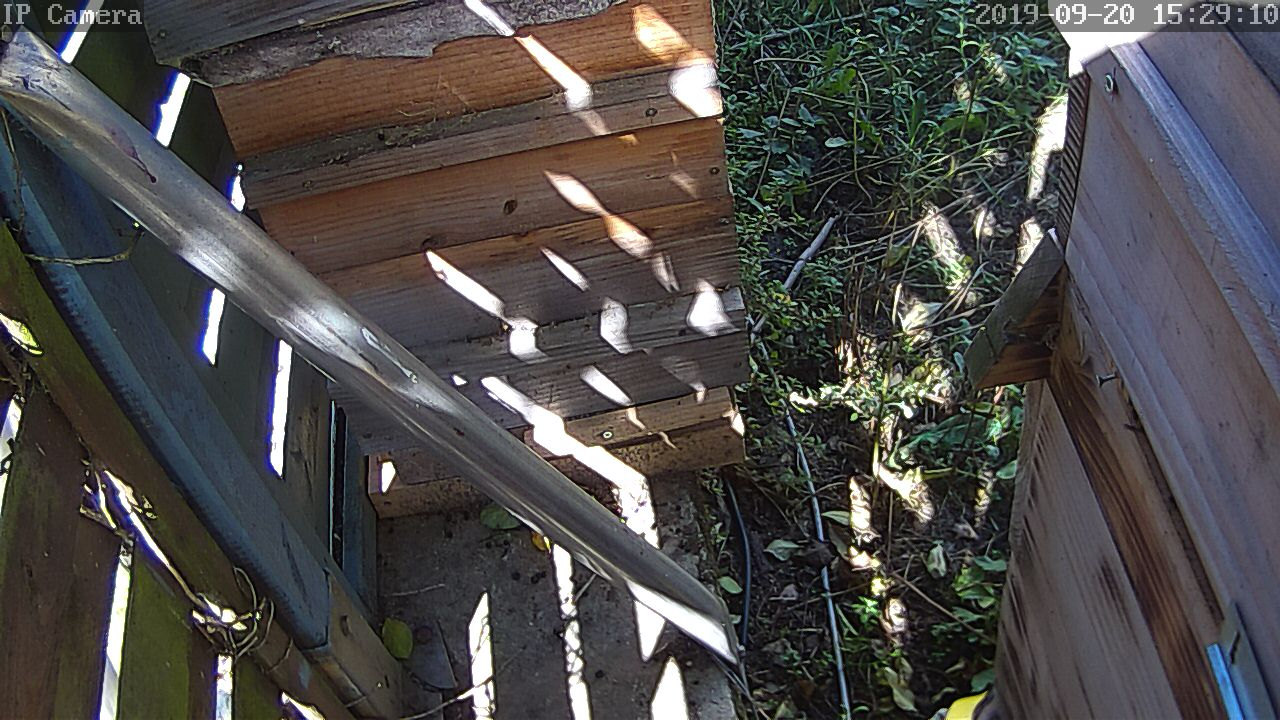hornet: (22, 0, 1253, 720)
